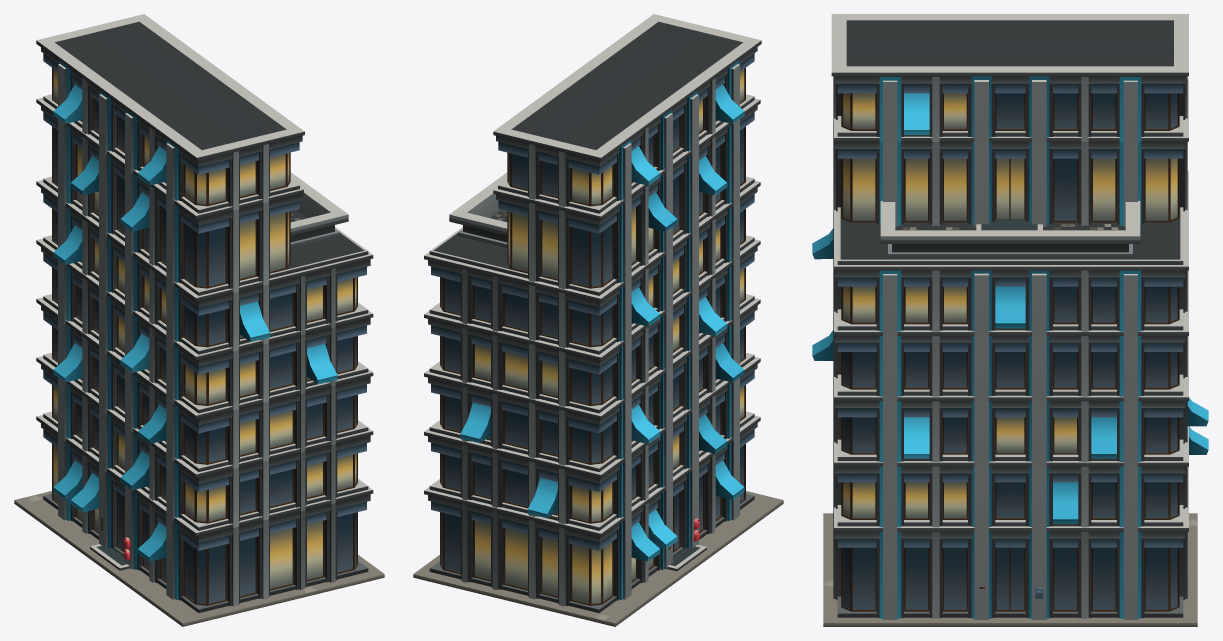
Rendered from Building_21B.fbx.
3 renders of one model, left to right at view 1: azimuth 30°, elevation 25°; view 2: azimuth 150°, elevation 25°; view 3: azimuth 270°, elevation 25°, orthographic. The views are drawn at different scales.
Visible parts, largest first — view 1: Building_21B, Window_Lights_21B, Canopy_21B; view 2: Building_21B, Window_Lights_21B, Canopy_21B; view 3: Building_21B, Window_Lights_21B, Canopy_21B.
Boxes of the visible parts, x1=… form: Building_21B: x1=14, y1=14, x2=384, y2=626; Window_Lights_21B: x1=53, y1=69, x2=356, y2=588; Canopy_21B: x1=53, y1=84, x2=337, y2=561; Building_21B: x1=413, y1=14, x2=783, y2=626; Window_Lights_21B: x1=475, y1=69, x2=744, y2=603; Canopy_21B: x1=460, y1=84, x2=744, y2=561; Building_21B: x1=823, y1=14, x2=1197, y2=626; Window_Lights_21B: x1=843, y1=93, x2=1177, y2=518; Canopy_21B: x1=812, y1=93, x2=1208, y2=523.
Bounding box in the file's own units: 1875 × 3930 × 2749.
